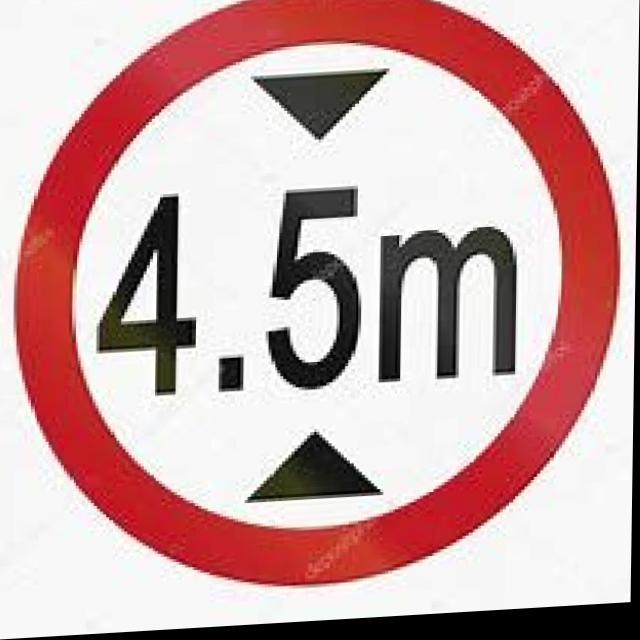HEIGHT_LIMIT: (5, 0, 626, 606)
